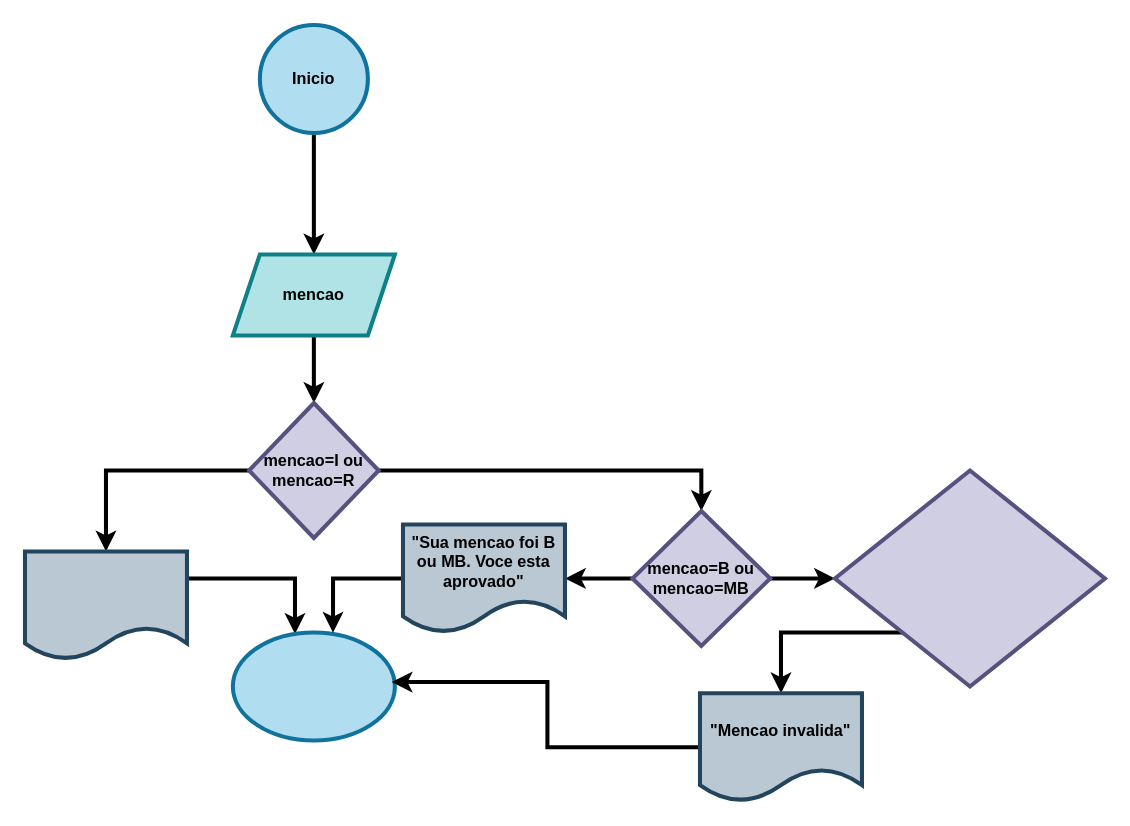
Image size: 1130x826. Some labels were removed from this diagram. The shapes that lost their labels are listed below. From the top down, each one's centre as x and y in pixels, then its label:
pixel 969 578: mencao<>I e mencao<>R e mencao<>B e mencao<>MB
pixel 105 605: "Sua mencao foi I ou R. Voce esta reprovado"
pixel 313 686: Fim
